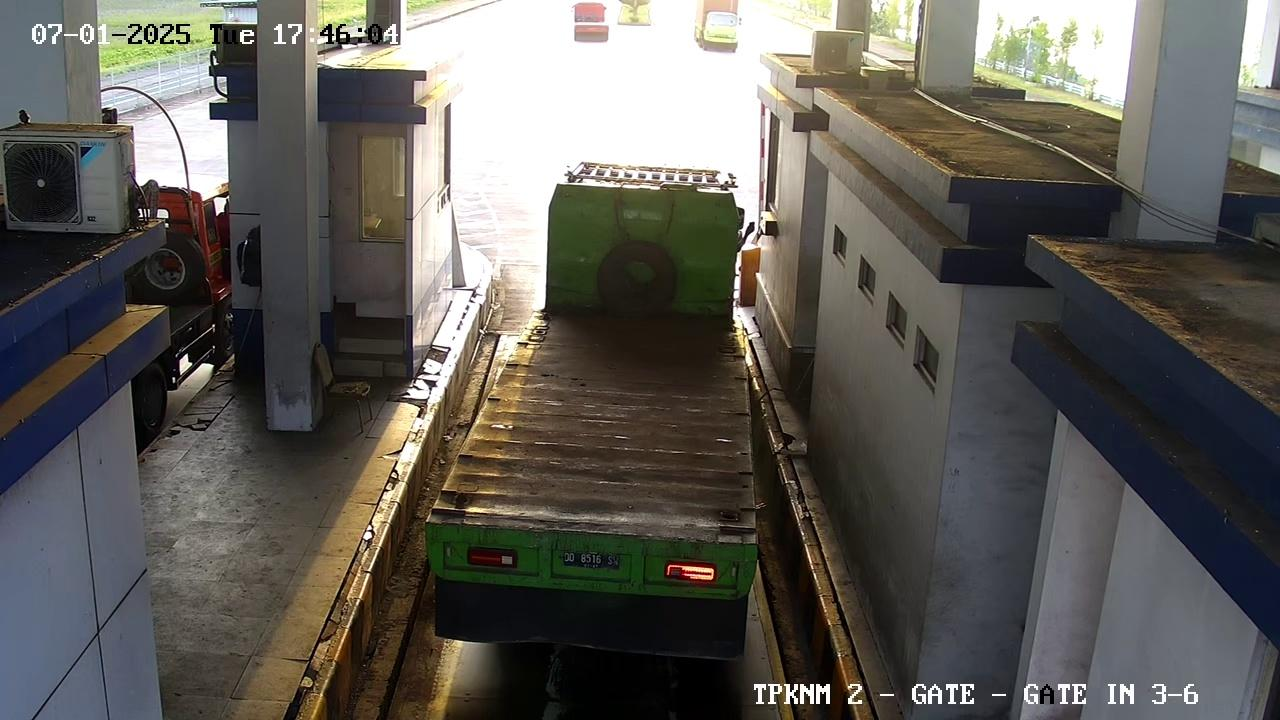plate_number: (557, 542, 624, 576)
